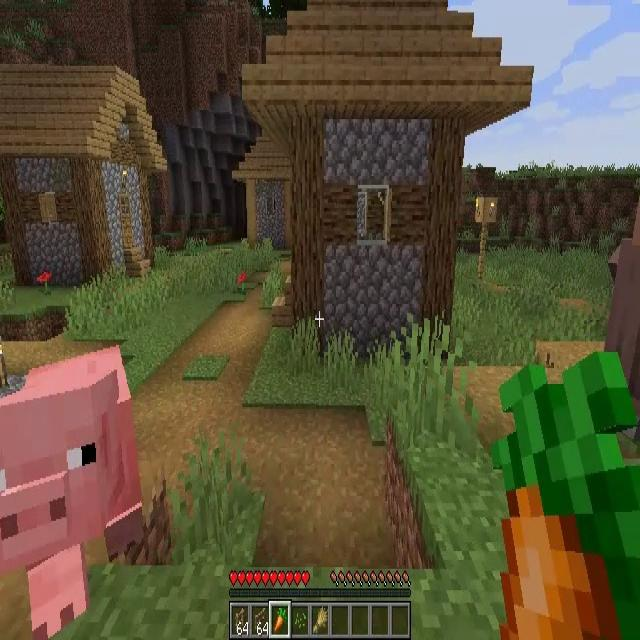pig: (0, 350, 143, 633)
